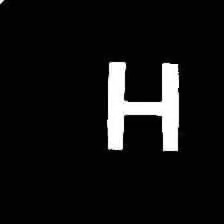LTR_H: (96, 50, 190, 162)
